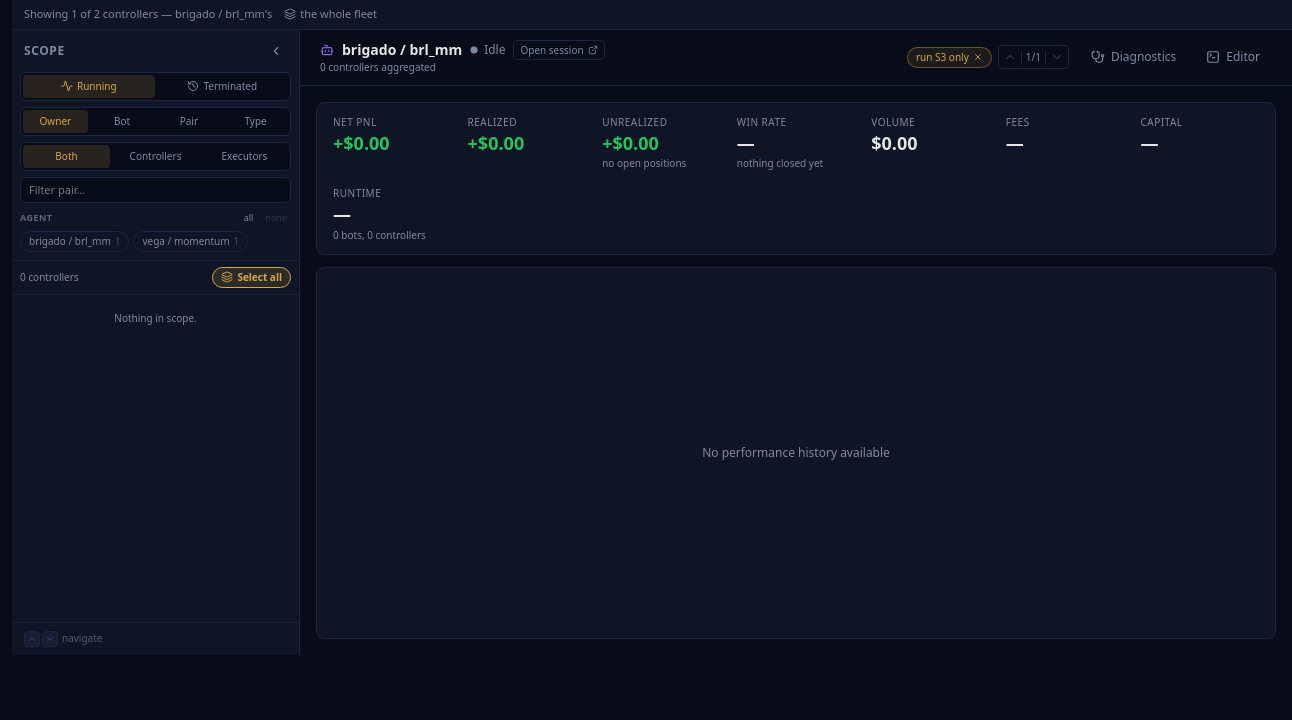
Test: AgentFleet › gives the run filter a way out that does not move the loop bar
Click the button named "Clear the run filter" at (978, 57), box top-left (973, 52), bottom-right (983, 62)
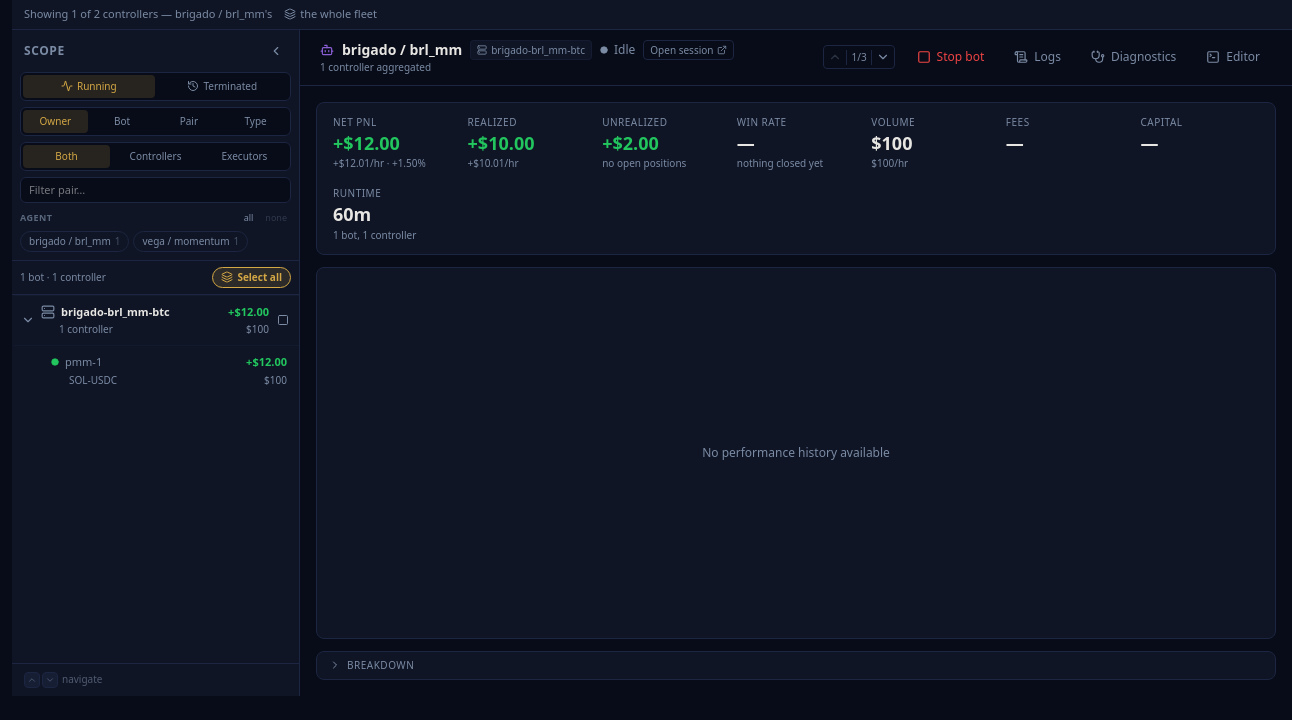
Now the text "run S3 only" is gone
Now the text "brigado-brl_mm-btc" is shown, box top-left (61, 304), bottom-right (170, 320)
